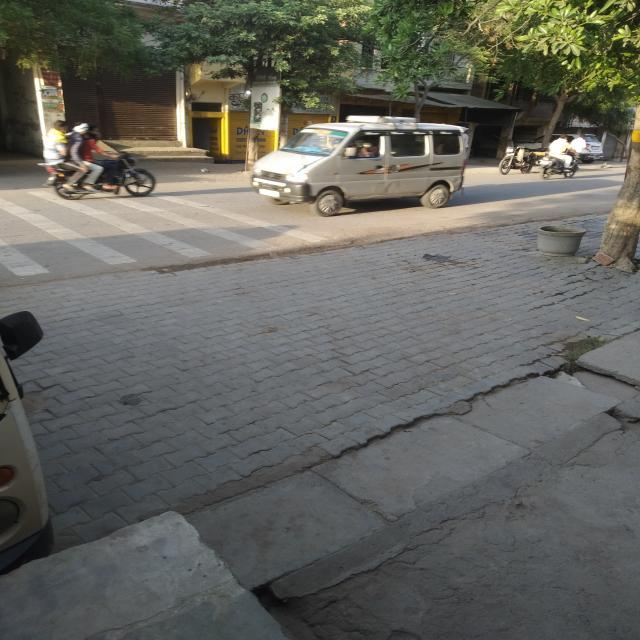Travller: (252, 96, 502, 230)
